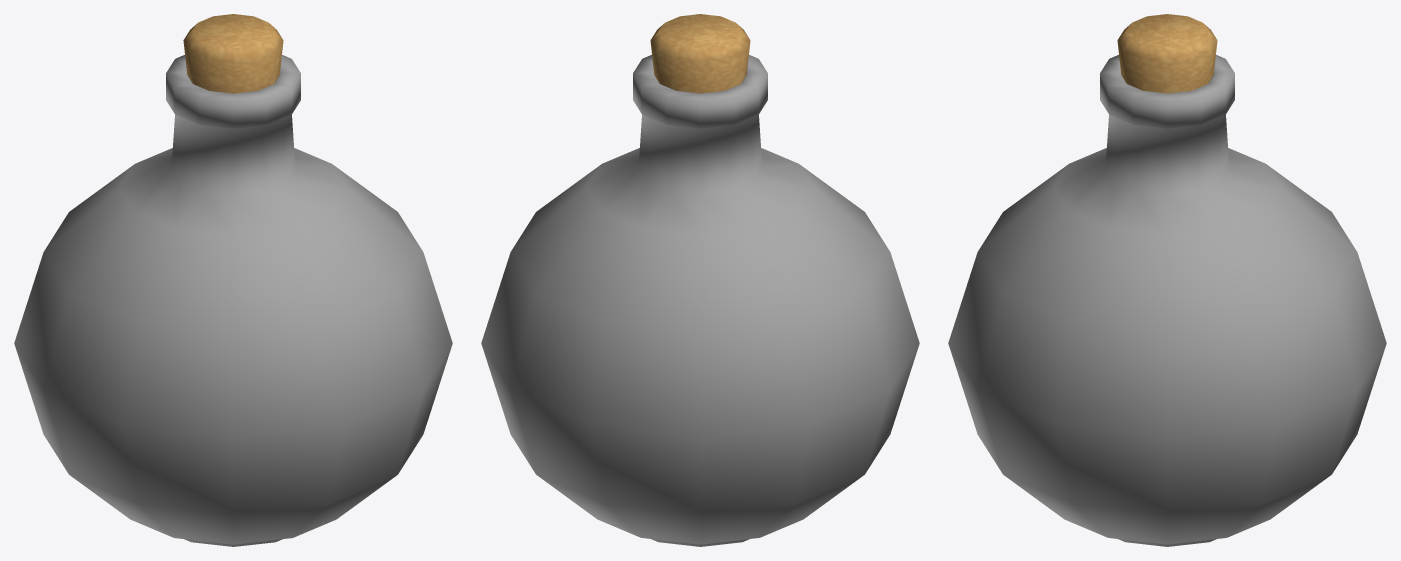
The model's file is marisa_bottle_1.FBX.
3 renders of one model, left to right at view 1: azimuth 30°, elevation 25°; view 2: azimuth 150°, elevation 25°; view 3: azimuth 270°, elevation 25°, orthographic.
Parts seen in each view (by area): view 1: potion 1; view 2: potion 1; view 3: potion 1.
Boxes of the visible parts, left/top/right/bottom form: potion 1: left=14, top=14, right=452, bottom=546; potion 1: left=481, top=14, right=919, bottom=546; potion 1: left=948, top=14, right=1386, bottom=546.
Bounding box in the file's own units: 169 × 204 × 169.
